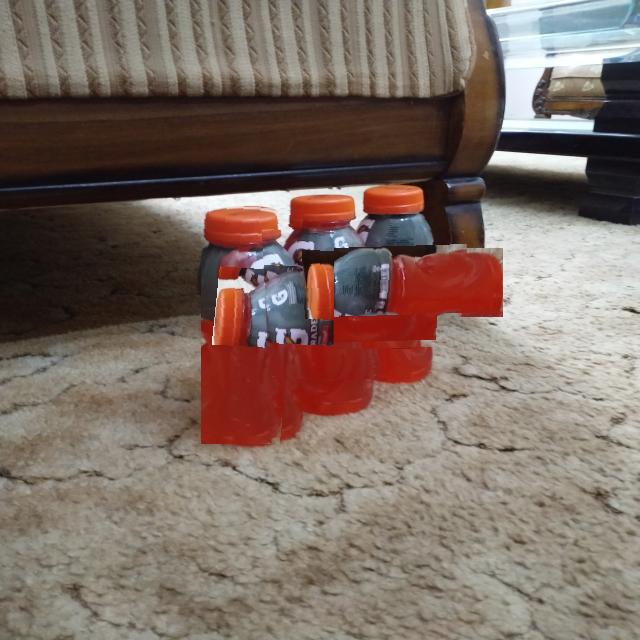Plastic: (201, 204, 304, 444), (262, 229, 411, 379), (334, 214, 470, 350)
